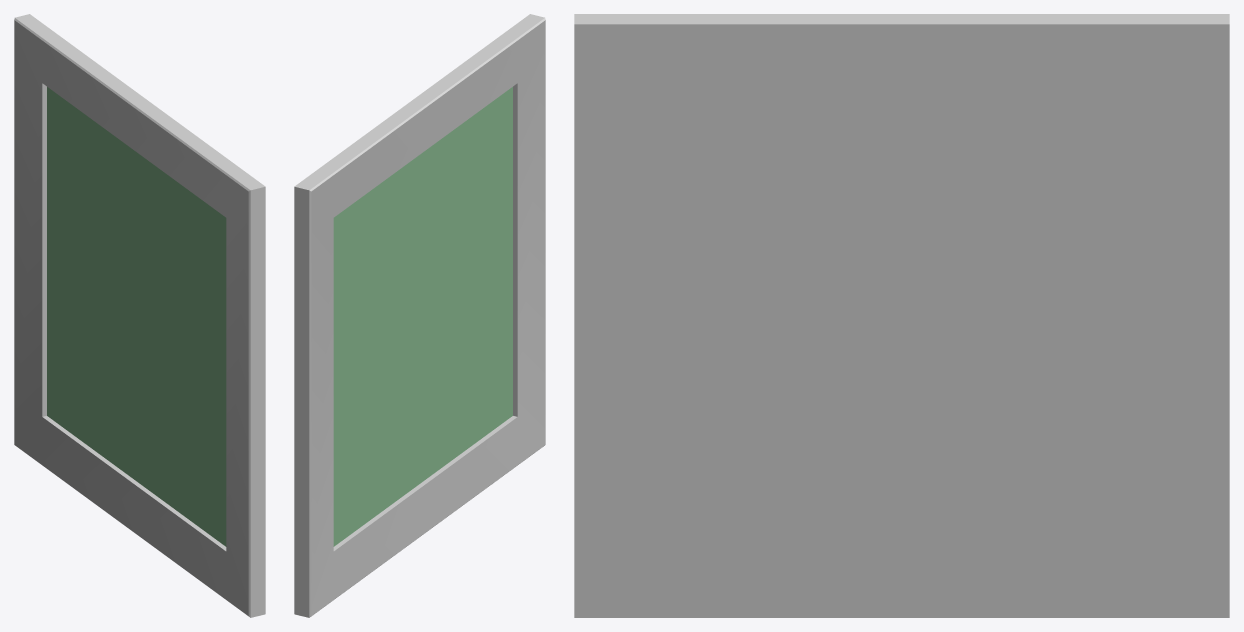
File: MZBAC02.FBX
The picture shows the model from 3 angles, left to right: view 1: azimuth 30°, elevation 25°; view 2: azimuth 150°, elevation 25°; view 3: azimuth 270°, elevation 25°; orthographic projection. The views are drawn at different scales.
Parts seen in each view (by area): view 1: MZBAC02; view 2: MZBAC02; view 3: MZBAC02.
Part boxes in pixels (bbox=[...]): MZBAC02: bbox=[14, 14, 265, 617]; MZBAC02: bbox=[294, 14, 545, 617]; MZBAC02: bbox=[574, 14, 1229, 617].
Bounding box in the file's own units: 91.44 × 2286 × 2286.
